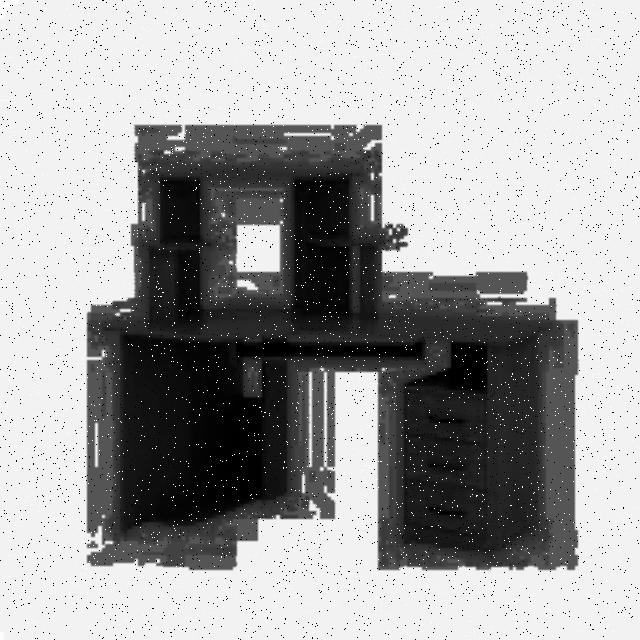table: (102, 166, 553, 559)
